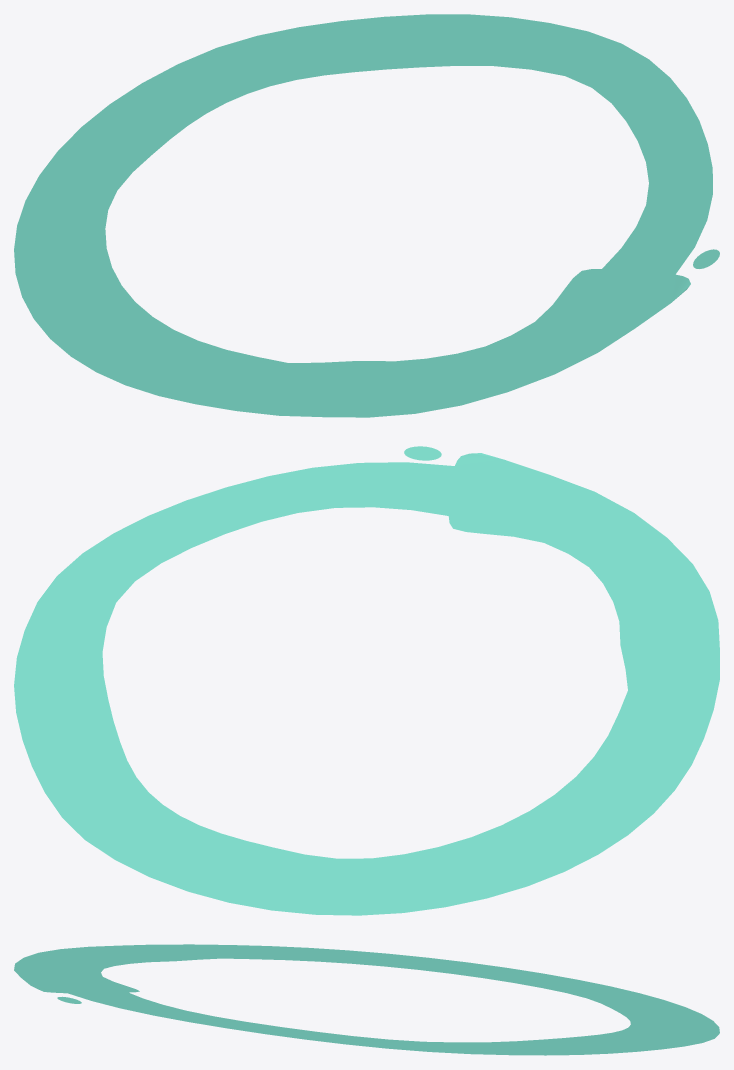
File: Mesh_Home_RF_River_05_SM.fbx
3 renders of one model, top to bottom at view 1: azimuth 30°, elevation 25°; view 2: azimuth 150°, elevation 25°; view 3: azimuth 270°, elevation 25°, orthographic. The views are drawn at different scales.
Parts seen in each view (by area): view 1: Mesh_Home_RF_River_05; view 2: Mesh_Home_RF_River_05; view 3: Mesh_Home_RF_River_05.
Boxes of the visible parts, left/top/right/bottom form: Mesh_Home_RF_River_05: left=14, top=14, right=719, bottom=417; Mesh_Home_RF_River_05: left=14, top=446, right=719, bottom=915; Mesh_Home_RF_River_05: left=14, top=944, right=719, bottom=1055.
Size of the model in its own units: 4230 by 1160 by 5871.
1 material, 1 textured.
